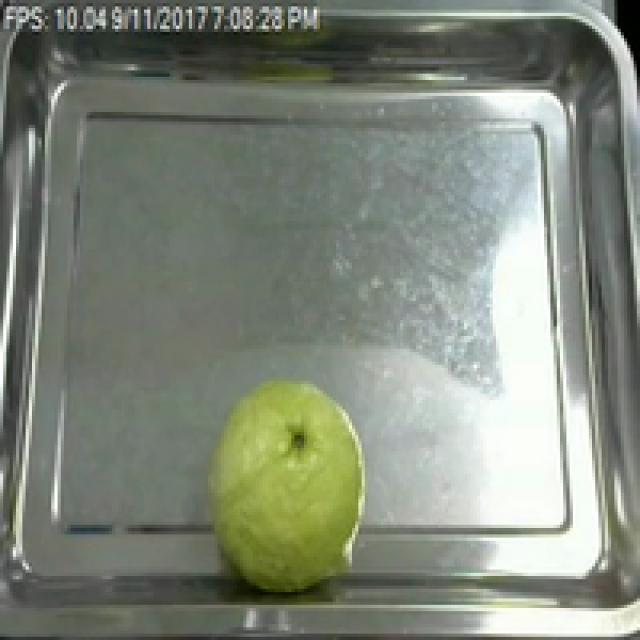Fruit: (198, 368, 381, 598)
